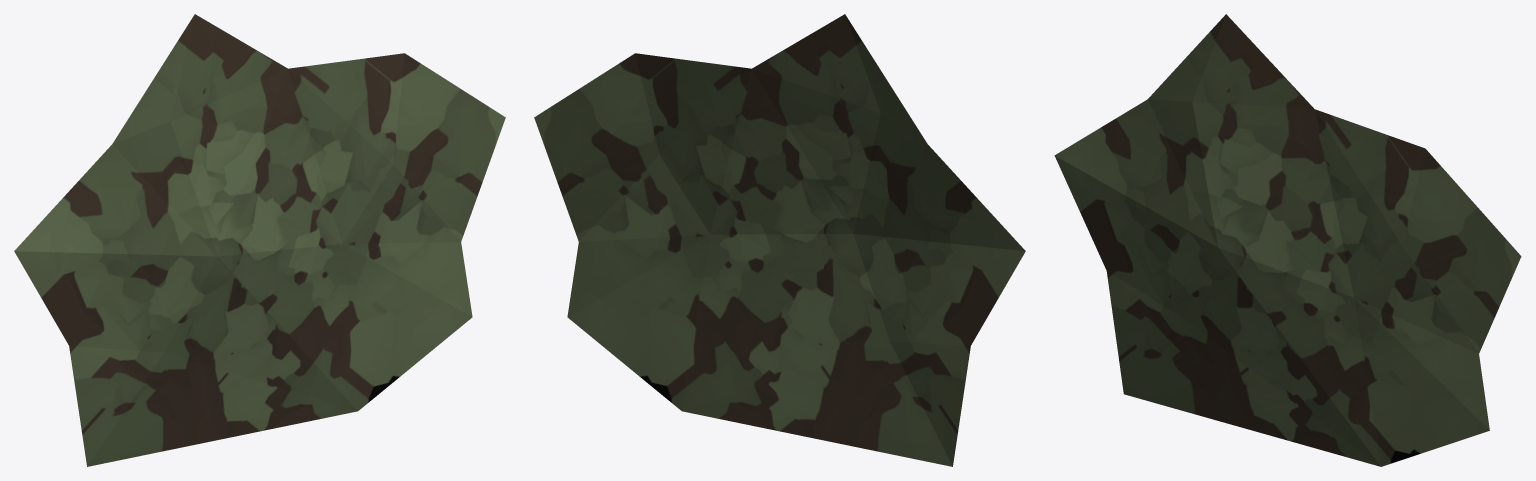
The model's file is SM_Gen_Env_Ivy_02.gltf.
3 renders of one model, left to right at view 1: azimuth 30°, elevation 25°; view 2: azimuth 150°, elevation 25°; view 3: azimuth 330°, elevation 25°, orthographic. The views are drawn at different scales.
Parts seen in each view (by area): view 1: SM_Gen_Env_Ivy_02; view 2: SM_Gen_Env_Ivy_02; view 3: SM_Gen_Env_Ivy_02.
Part boxes in pixels (bbox=[...]): SM_Gen_Env_Ivy_02: bbox=[14, 14, 505, 466]; SM_Gen_Env_Ivy_02: bbox=[534, 14, 1025, 466]; SM_Gen_Env_Ivy_02: bbox=[1054, 14, 1521, 466].
Size of the model in its own units: 2.03 by 1.72 by 0.1107.
Materials: 1 (1 with a texture image).
